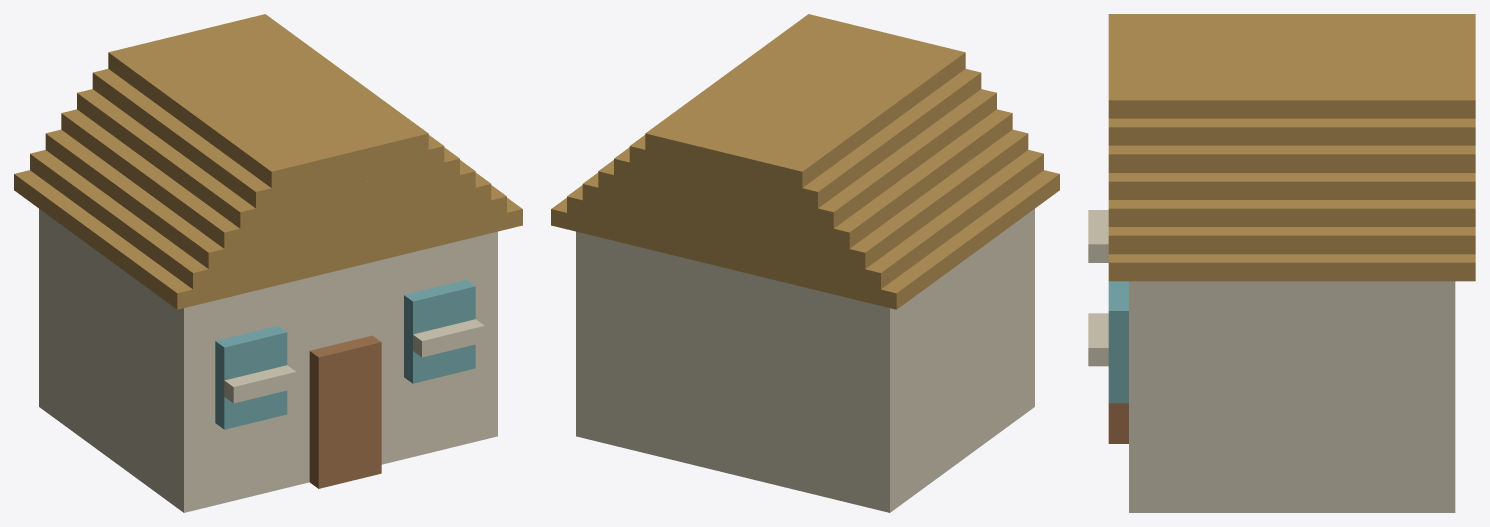
Rendered from construction-20.glb.
3 views of the same model, side by side, from view 1: azimuth 30°, elevation 25°; view 2: azimuth 150°, elevation 25°; view 3: azimuth 270°, elevation 25° (orthographic). The views are drawn at different scales.
Visible parts, largest first — view 1: Site office; view 2: Site office; view 3: Site office.
Boxes of the visible parts, left/top/right/bottom form: Site office: left=14, top=14, right=522, bottom=512; Site office: left=551, top=14, right=1059, bottom=512; Site office: left=1088, top=14, right=1475, bottom=512.
Size of the model in its own units: 1.76 by 1.6 by 1.52.
